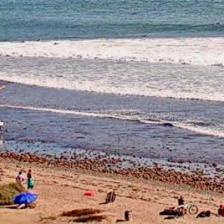surfer: (215, 22, 221, 26), (35, 38, 40, 42), (142, 34, 146, 37), (54, 42, 58, 44)
